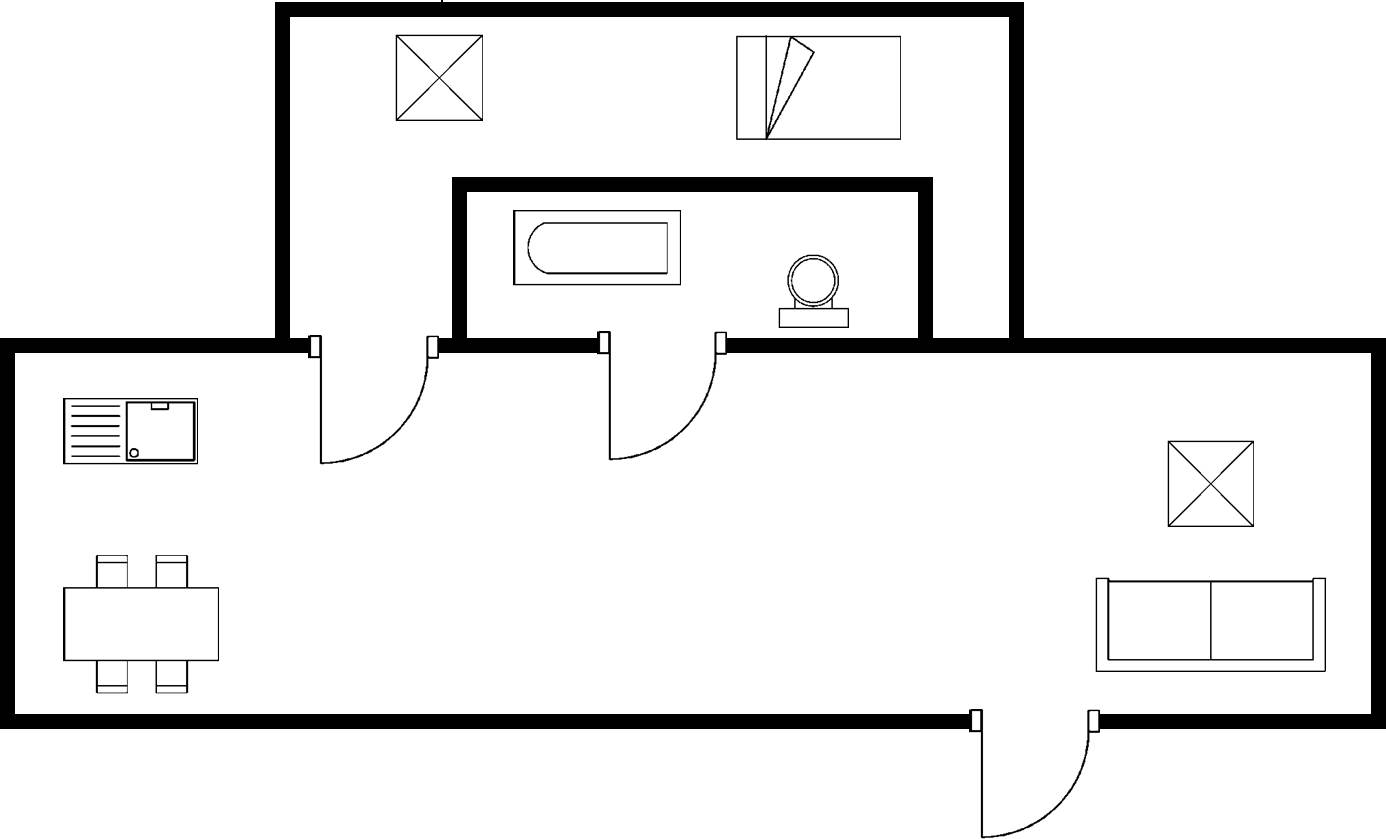bed: (732, 30, 909, 146)
coffee_table: (1158, 432, 1261, 537), (387, 27, 493, 129)
dining_table: (56, 544, 230, 700)
large_sink: (771, 248, 857, 334)
large_sofa: (1087, 569, 1332, 679)
sink: (56, 389, 207, 472)
tub: (507, 204, 690, 295)
